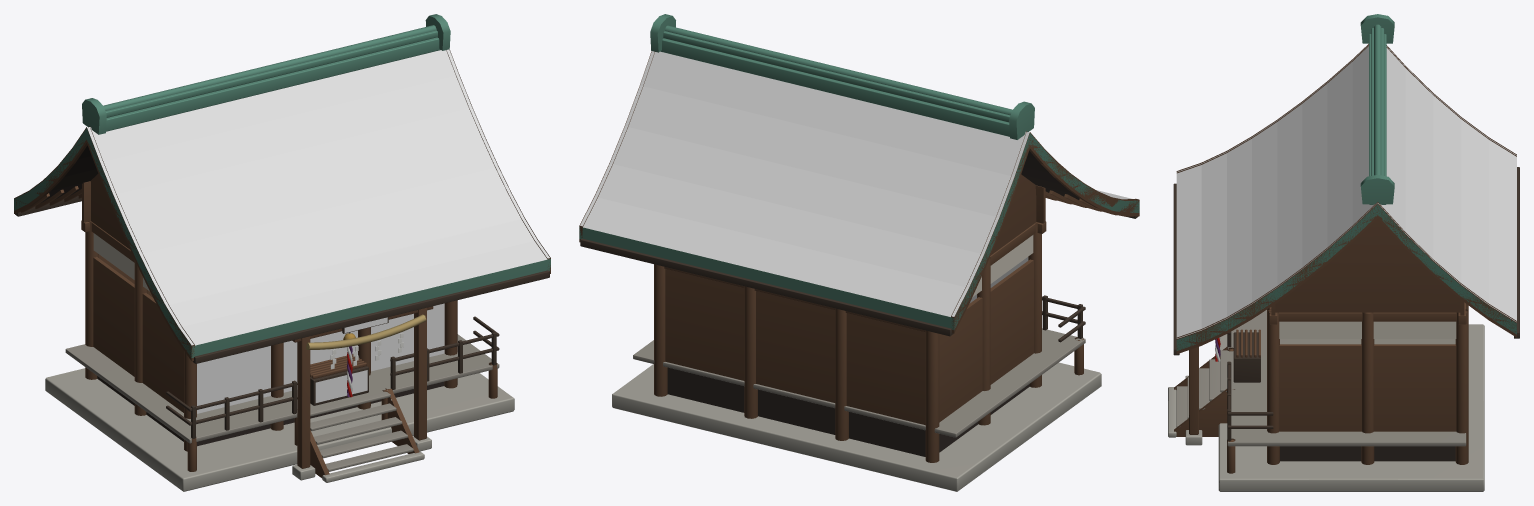
The model's file is ShrineHallKM.fbx.
3 views of the same model, side by side, from view 1: azimuth 30°, elevation 25°; view 2: azimuth 150°, elevation 25°; view 3: azimuth 270°, elevation 25° (orthographic). The views are drawn at different scales.
Visible parts, largest first — view 1: ShrineHallKM; view 2: ShrineHallKM; view 3: ShrineHallKM.
Boxes of the visible parts, x1,y1,x2,y2 form: ShrineHallKM: [14, 14, 550, 491]; ShrineHallKM: [579, 14, 1139, 491]; ShrineHallKM: [1168, 14, 1519, 491].
Size of the model in its own units: 8 by 7.08 by 7.08.
